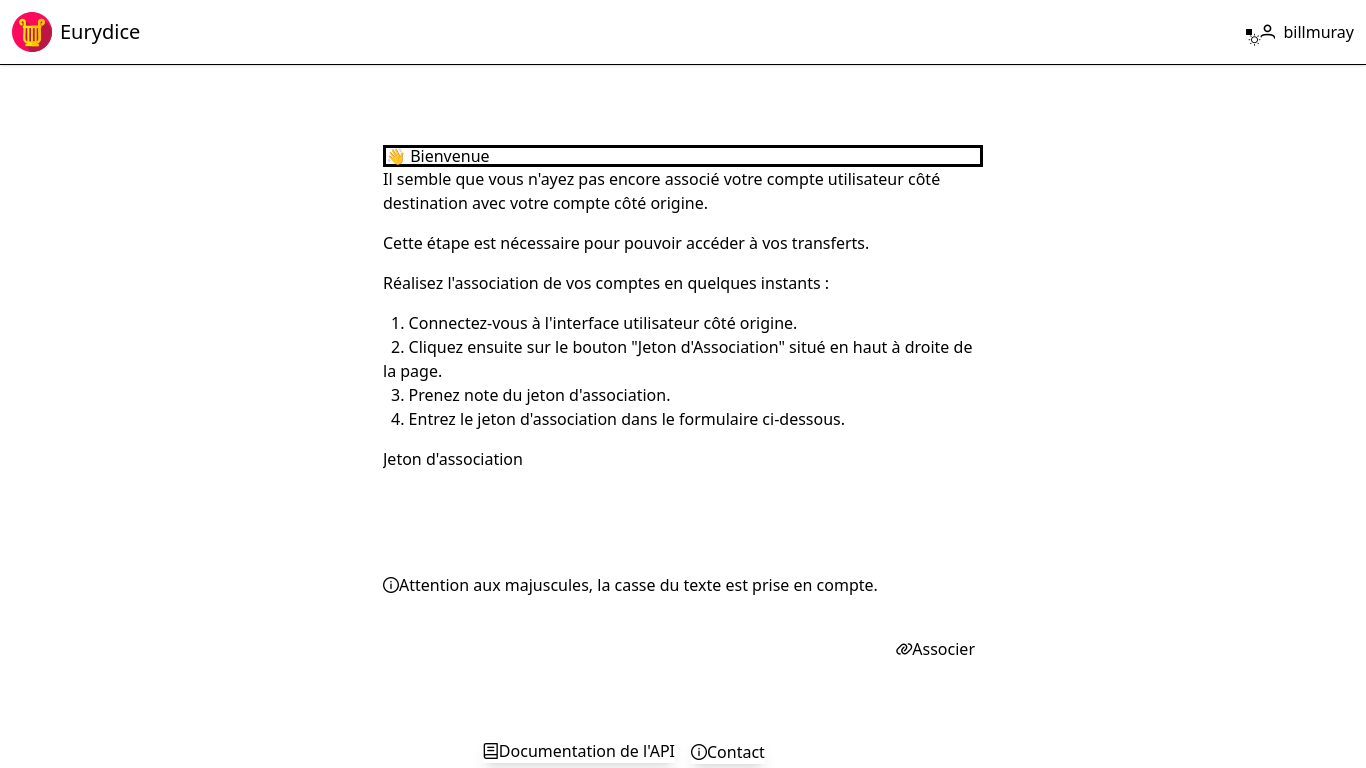
Main View Origin › Shows success message when sent token is correct
Step 1. Type "un 2 3 4 5 6 7 8 9 10 11 12 13 14 15 16 17 fin" into the text box with test id "TokenTextArea" → x=683, y=507, box 383,447 -> 983,567
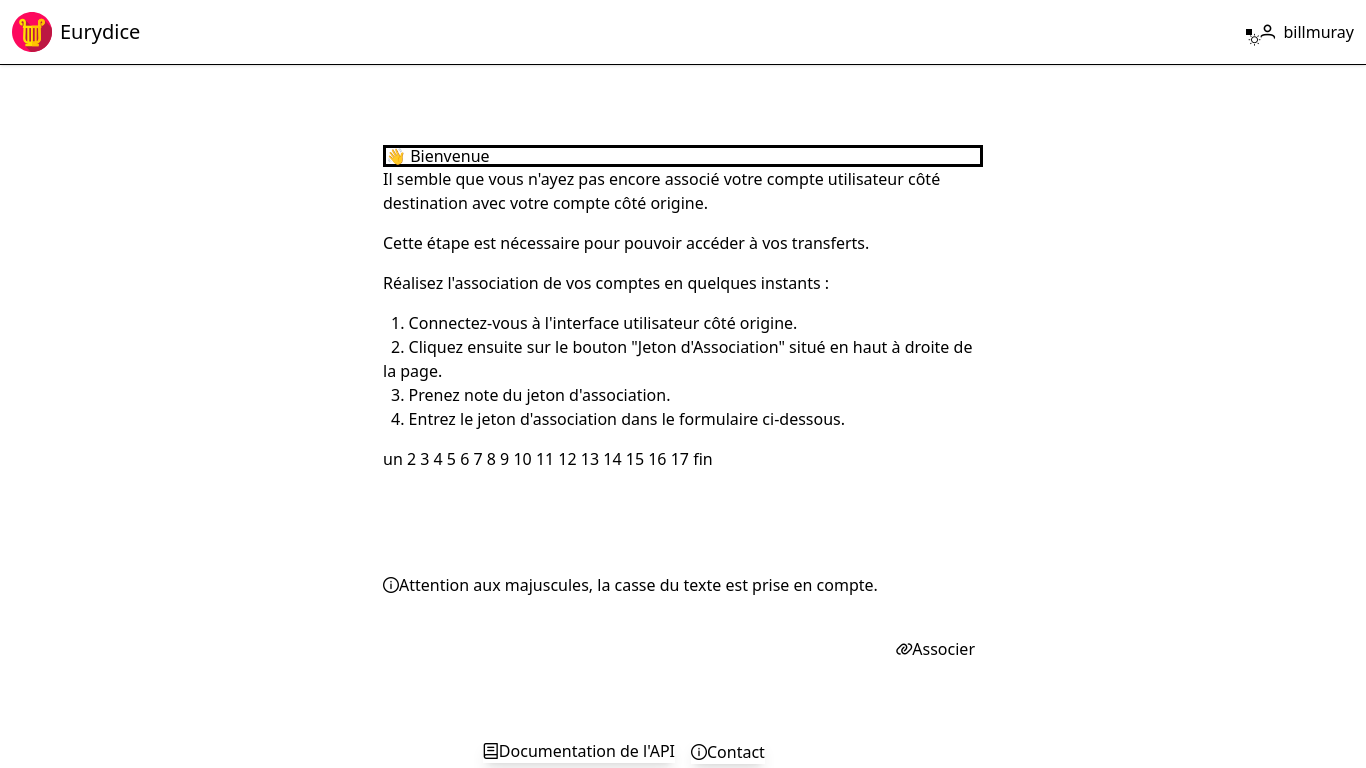
Step 2. Submit the form with test id "TokenForm", box 383,447 -> 983,661
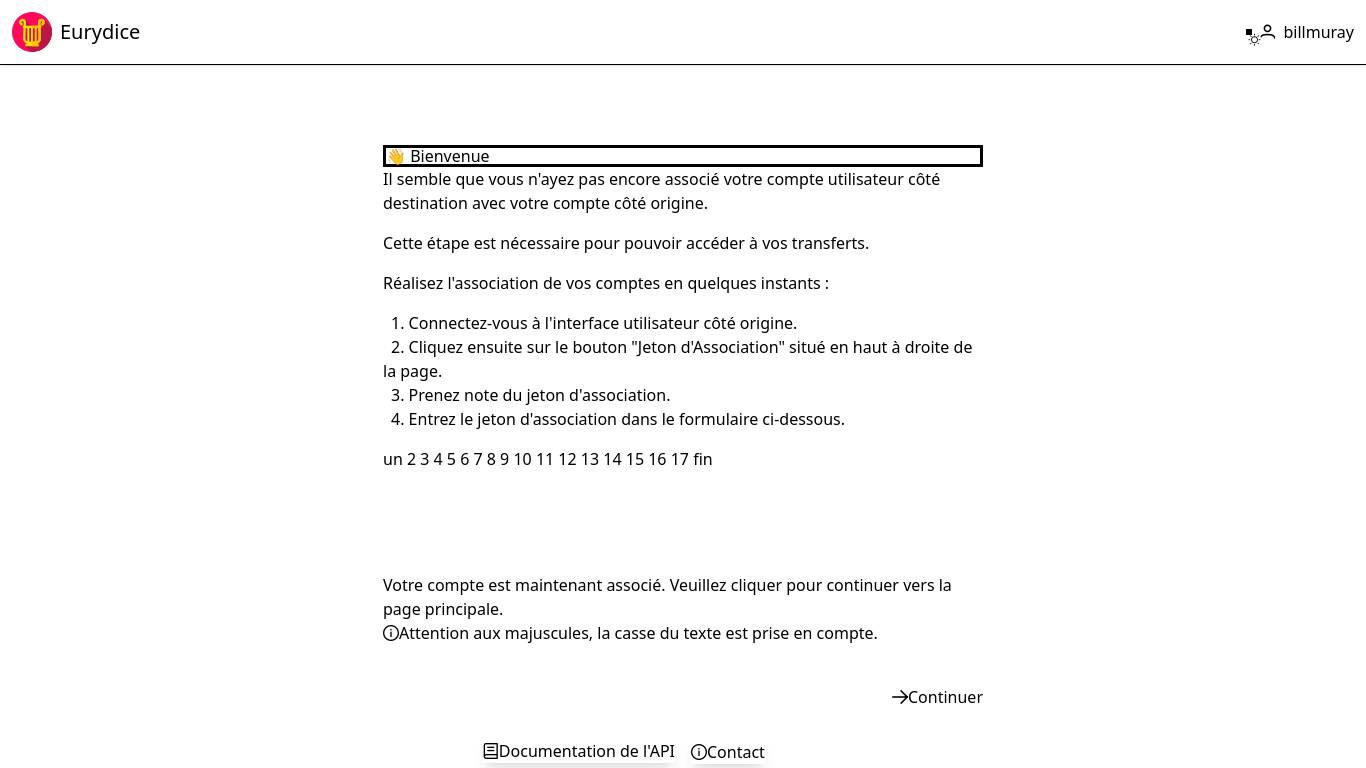
Expected: the element with test id "TokenSuccessMsg" is shown, 383,573 -> 983,621
Expected: the element with test id "TokenSuccessMsg" shows "Votre compte est maintenant associé. Veuillez cliquer pour continuer vers la page principale.", 383,574 -> 952,620
Expected: the button with test id "ContinueBtn" is shown, 892,685 -> 983,709
